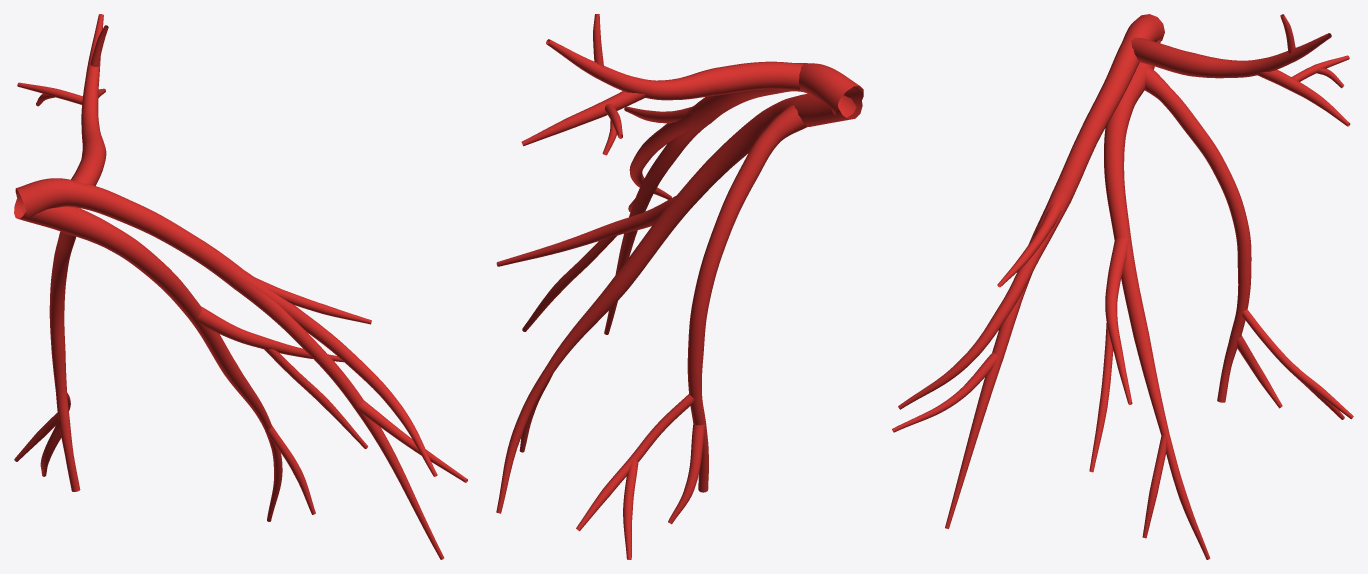
Rendered from circulatorio-left-inferior-pulmonary-vein.glb.
3 views of the same model, side by side, from view 1: azimuth 30°, elevation 25°; view 2: azimuth 150°, elevation 25°; view 3: azimuth 270°, elevation 25° (orthographic). The views are drawn at different scales.
Parts seen in each view (by area): view 1: Superior vein of left lung, Superior basal vein of left lung, Inferior basal vein of left lung, Left inferior pulmonary vein; view 2: Superior vein of left lung, Superior basal vein of left lung, Inferior basal vein of left lung, Left inferior pulmonary vein; view 3: Superior vein of left lung, Superior basal vein of left lung, Inferior basal vein of left lung, Left inferior pulmonary vein.
Boxes of the visible parts, bbox=[...] form: Superior vein of left lung: bbox=[17, 14, 467, 559]; Superior basal vein of left lung: bbox=[66, 207, 367, 521]; Inferior basal vein of left lung: bbox=[14, 231, 80, 491]; Left inferior pulmonary vein: bbox=[14, 178, 79, 233]; Superior vein of left lung: bbox=[521, 14, 807, 334]; Superior basal vein of left lung: bbox=[496, 95, 810, 513]; Inferior basal vein of left lung: bbox=[576, 105, 807, 559]; Left inferior pulmonary vein: bbox=[794, 63, 863, 126]; Superior vein of left lung: bbox=[892, 14, 1350, 528]; Superior basal vein of left lung: bbox=[1089, 64, 1210, 559]; Inferior basal vein of left lung: bbox=[1144, 68, 1353, 419]; Left inferior pulmonary vein: bbox=[1122, 14, 1164, 69].
Bounding box in the file's own units: 0.0865 × 0.1264 × 0.109.
